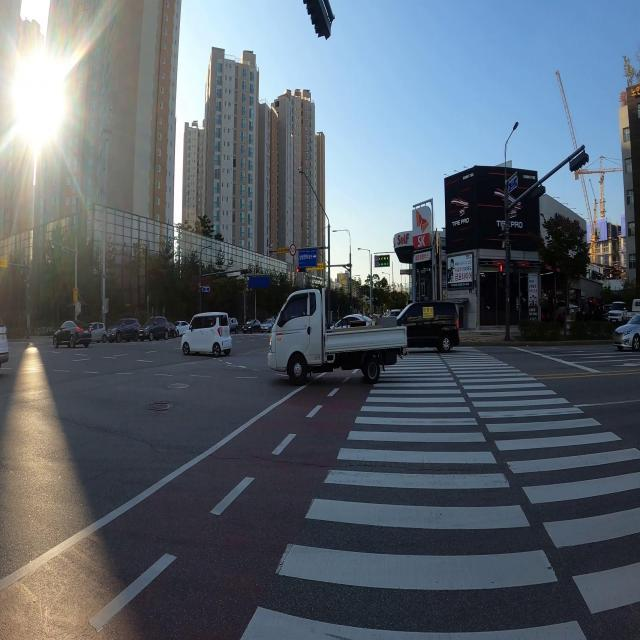crosswalk: (239, 342, 640, 640)
